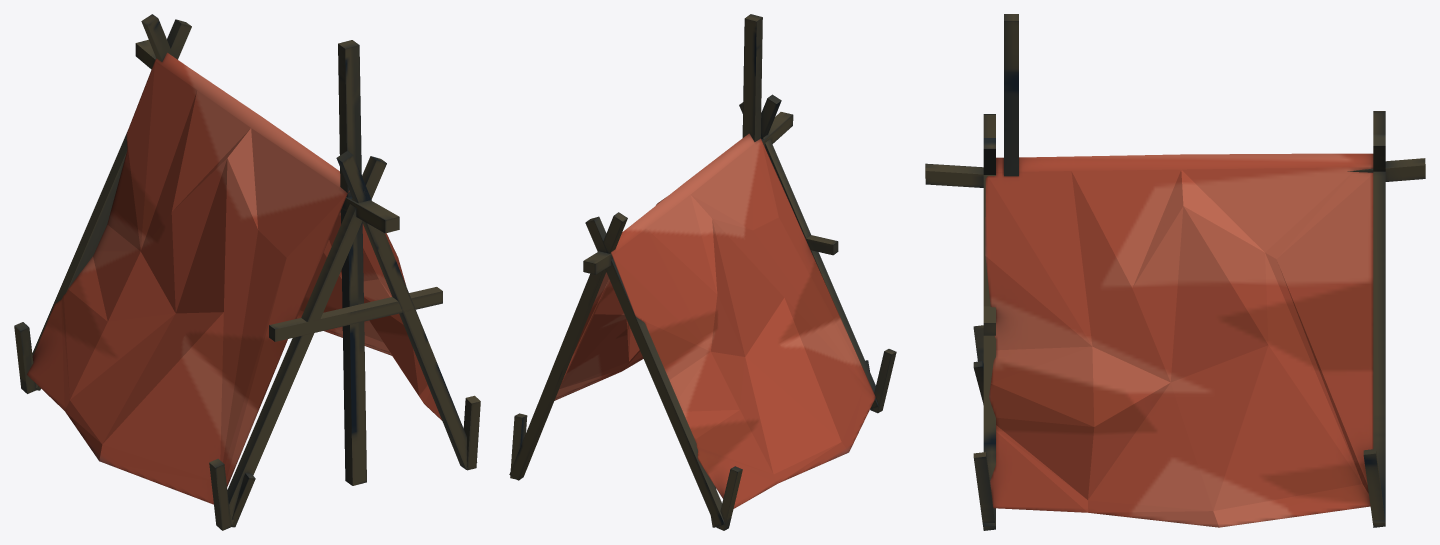
Rendered from tent.FBX.
The picture shows the model from 3 angles, left to right: view 1: azimuth 30°, elevation 25°; view 2: azimuth 150°, elevation 25°; view 3: azimuth 270°, elevation 25°; orthographic projection. The views are drawn at different scales.
Parts seen in each view (by area): view 1: Box008; view 2: Box008; view 3: Box008.
Boxes of the visible parts, <box> form: Box008: <box>14,14,480,530</box>; Box008: <box>509,14,896,530</box>; Box008: <box>925,14,1425,530</box>.
Size of the model in its own units: 62.88 by 80.29 by 80.98.
